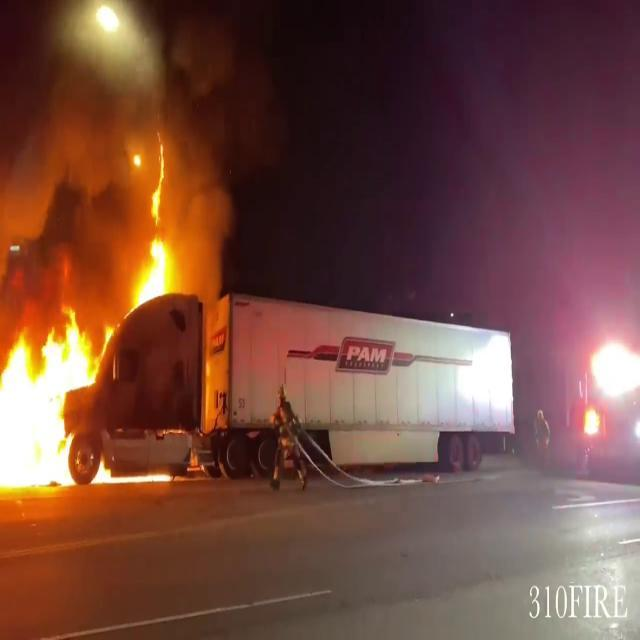Fire: (0, 306, 113, 498), (128, 152, 186, 316)
Smoke: (0, 1, 278, 303), (0, 0, 126, 306)
